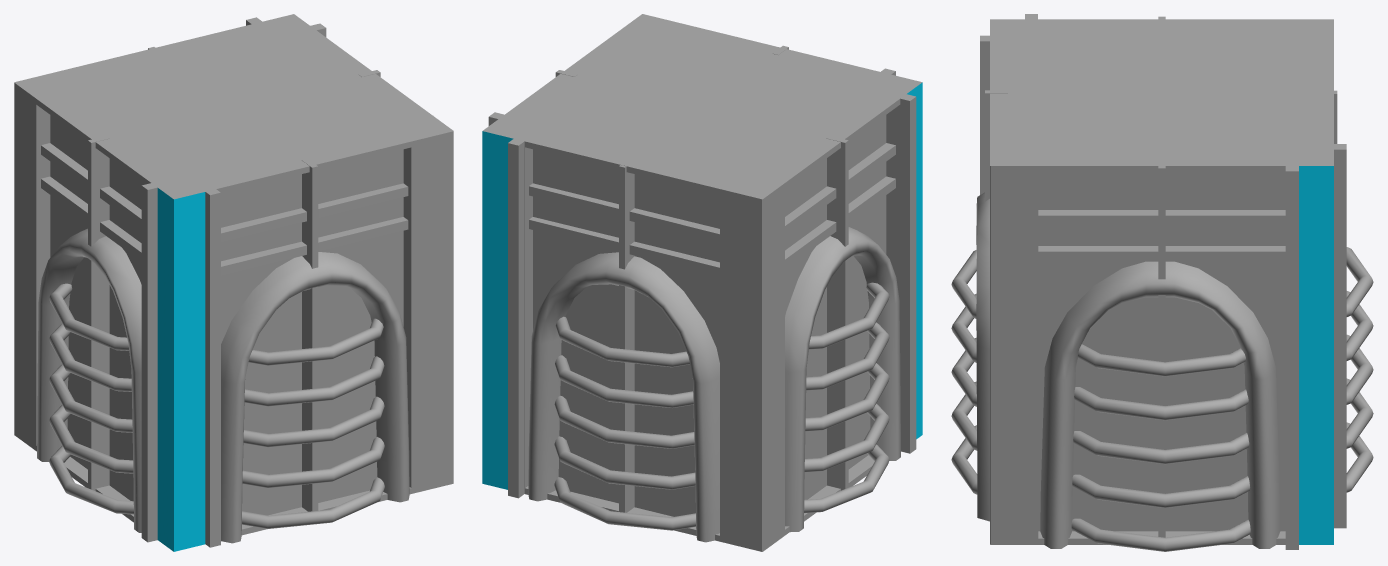
The model's file is BuildingPiece_1_ArchTop.fbx.
3 renders of one model, left to right at view 1: azimuth 30°, elevation 25°; view 2: azimuth 150°, elevation 25°; view 3: azimuth 270°, elevation 25°, orthographic. The views are drawn at different scales.
Visible parts, largest first — view 1: BuildingPiece1_ArchTop; view 2: BuildingPiece1_ArchTop; view 3: BuildingPiece1_ArchTop.
Boxes of the visible parts, x1,y1,x2,y2 form: BuildingPiece1_ArchTop: (14, 14, 453, 551); BuildingPiece1_ArchTop: (482, 14, 922, 551); BuildingPiece1_ArchTop: (951, 14, 1373, 551).
Bounding box in the file's own units: 38.43 × 38.08 × 38.43.
